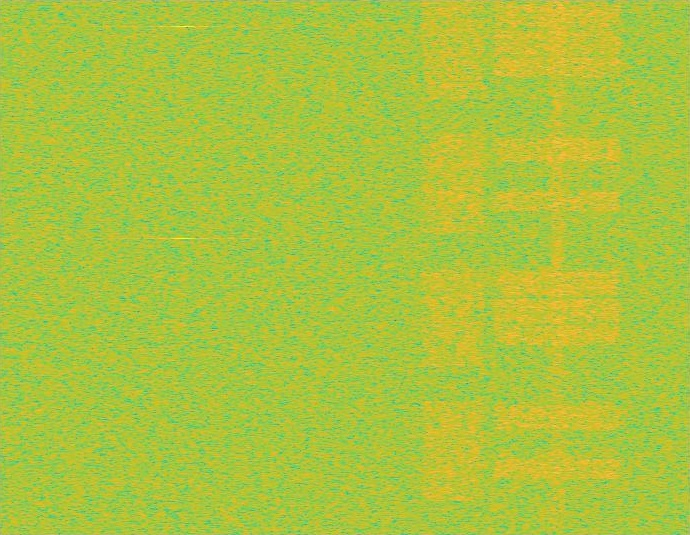5G: (419, 0, 488, 534)
DSSS: (548, 0, 567, 534)
LTE: (488, 0, 626, 534)
Radar: (177, 0, 190, 534)
